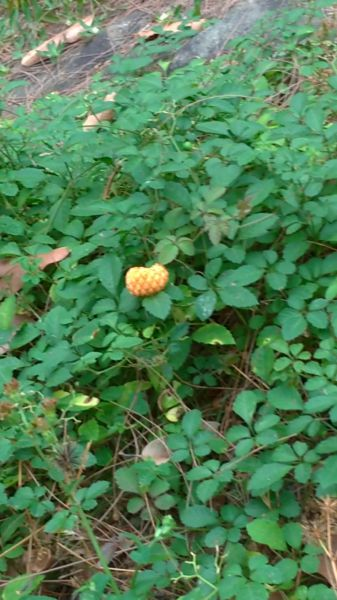eggs: (121, 258, 176, 299)
